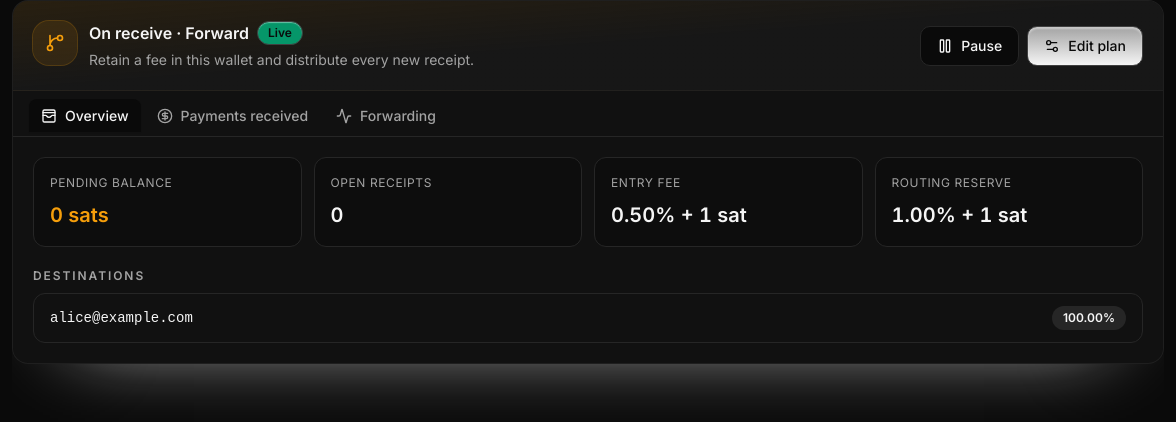
Test: RemoteWalletForwardingPanel › marks a captured-but-unreceipted payment as awaiting forwarding
Click the tab "Payments received" at [232, 116], box [144,99,320,132]
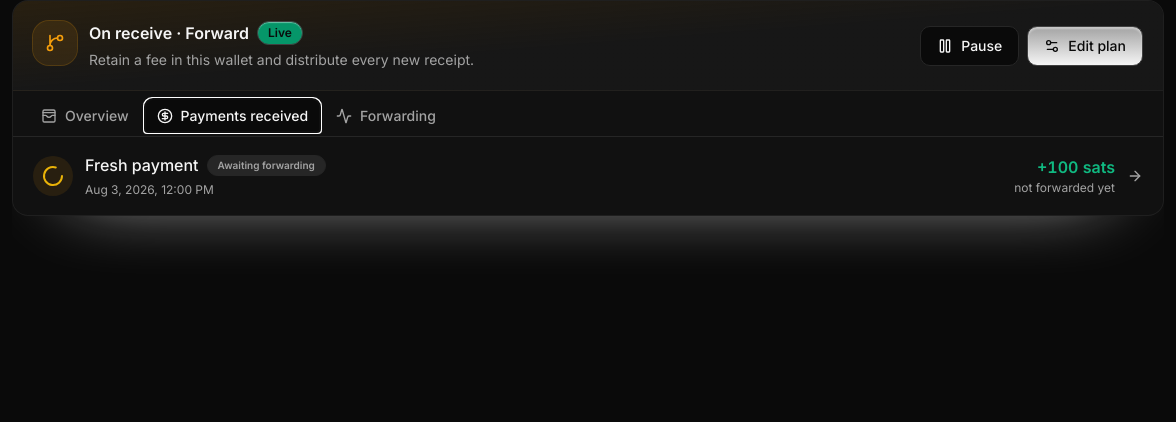
Expected: the text "Awaiting forwarding" is shown, [207,154,326,176]
Expected: the text "not forwarded yet" is shown, [1014,179,1115,197]
